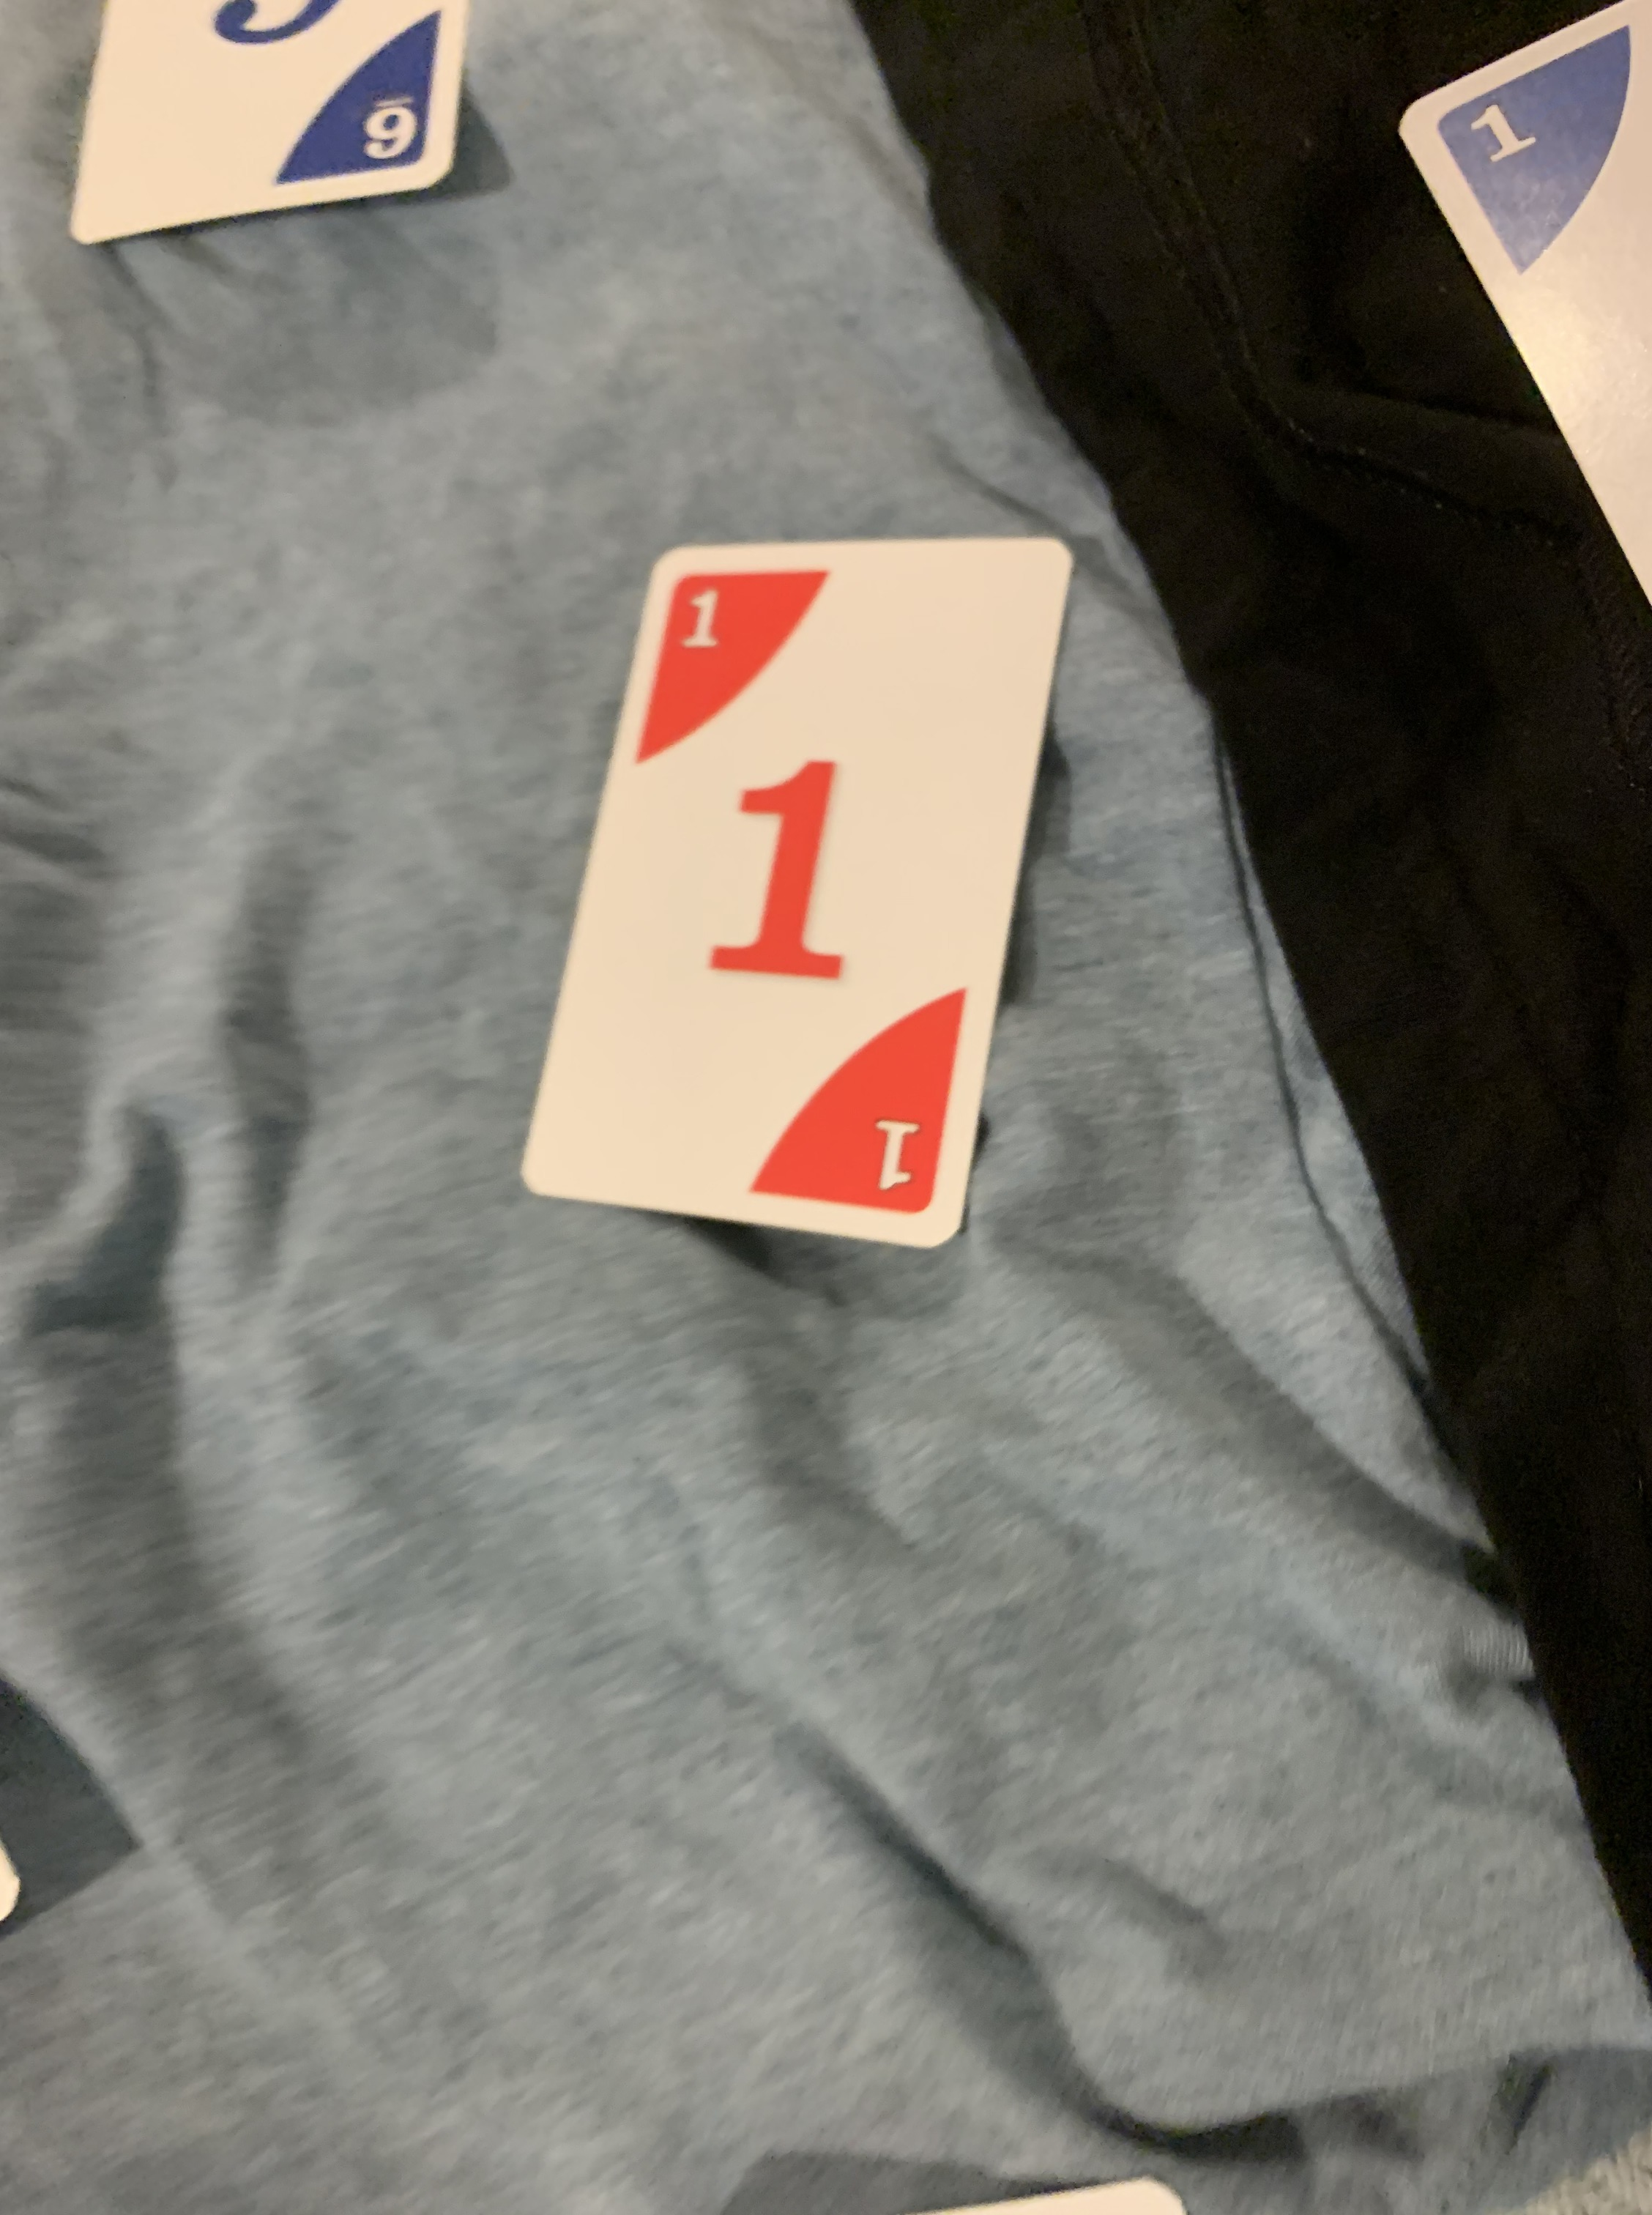one: (517, 529, 1072, 1259)
